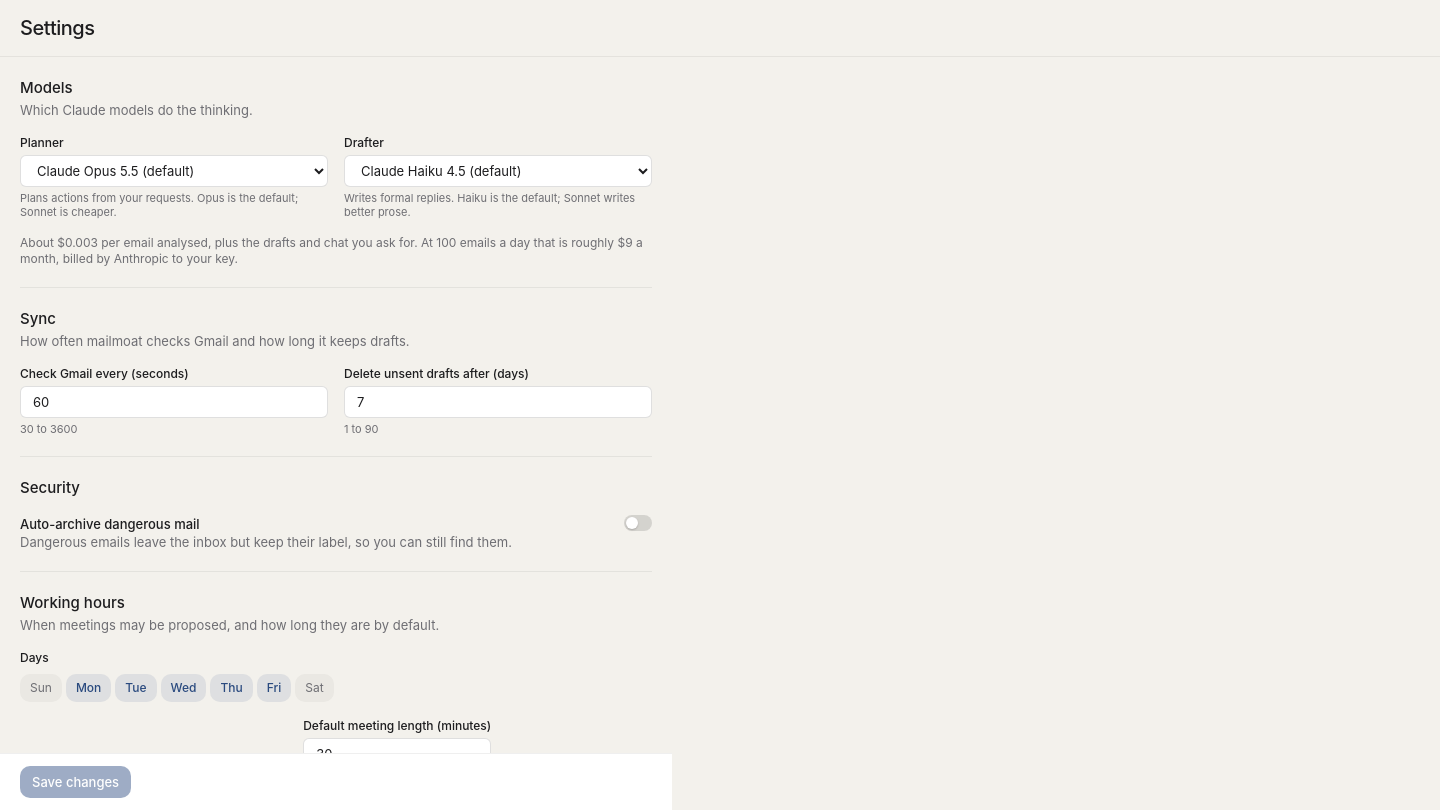
SettingsPage › sends only the changed fields on save
This screenshot has width=1440, height=810.
Expected: the button "Save changes" is disabled, [20,766,131,798]
Select "Claude Sonnet 5.5 (cheaper)" in the dropdown labelled "Planner": coordinates (174, 171) [20,155,328,187]
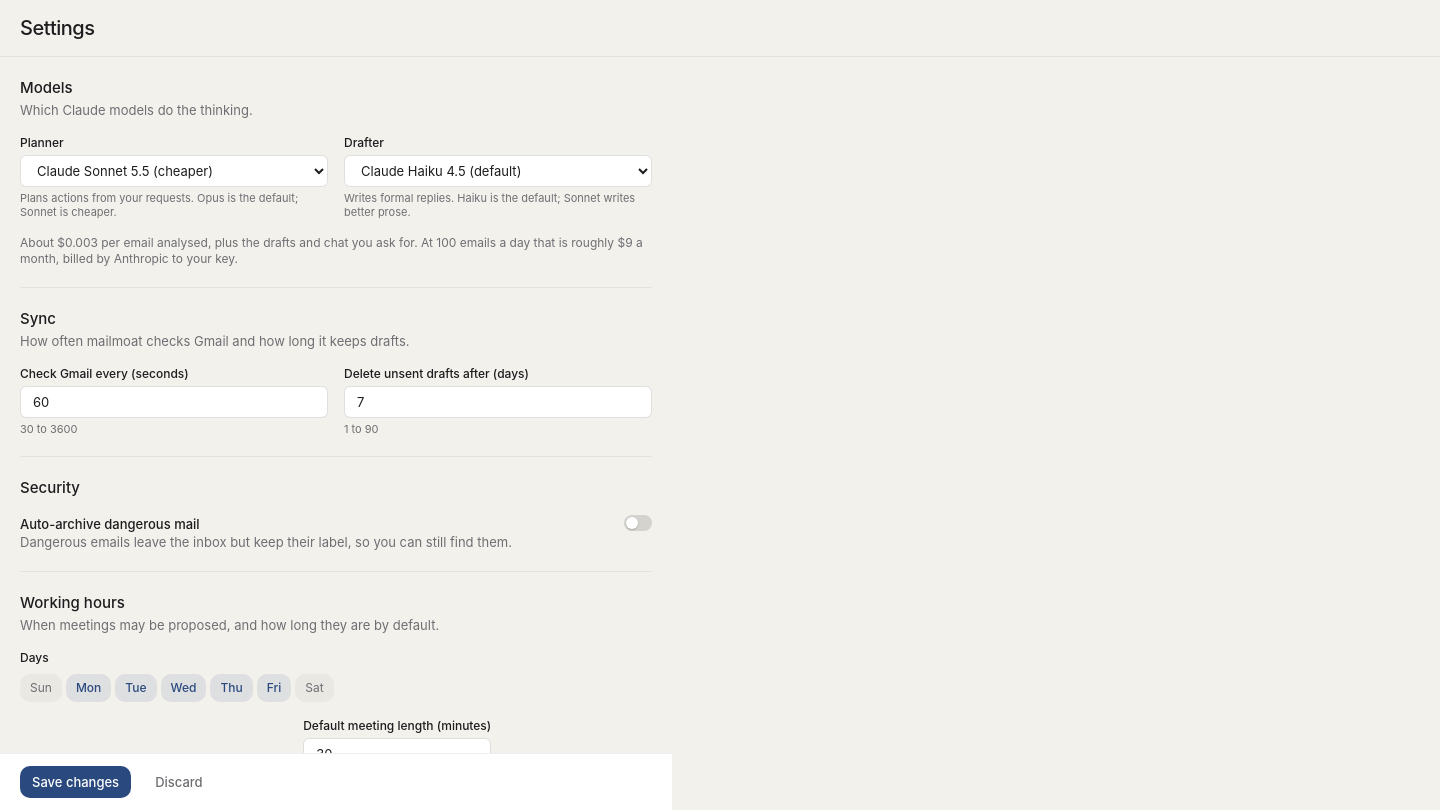
Click the switch named "Auto-archive dangerous mail": coordinates (638, 523) [624,515,652,531]
(page scrolled)
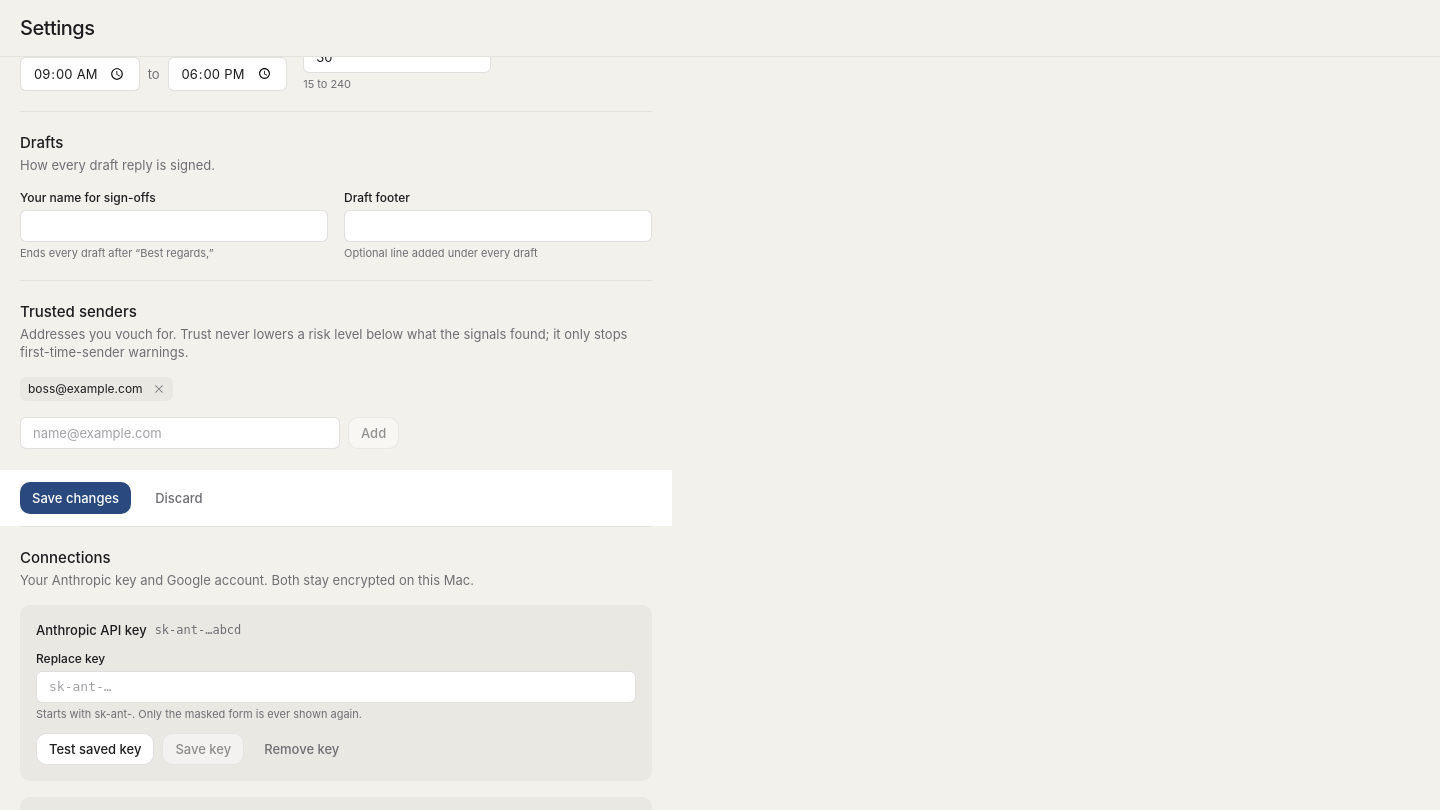
In the field named "Add trusted sender": coordinates (180, 433) [20,417,340,449], type "Ally@Example.com"
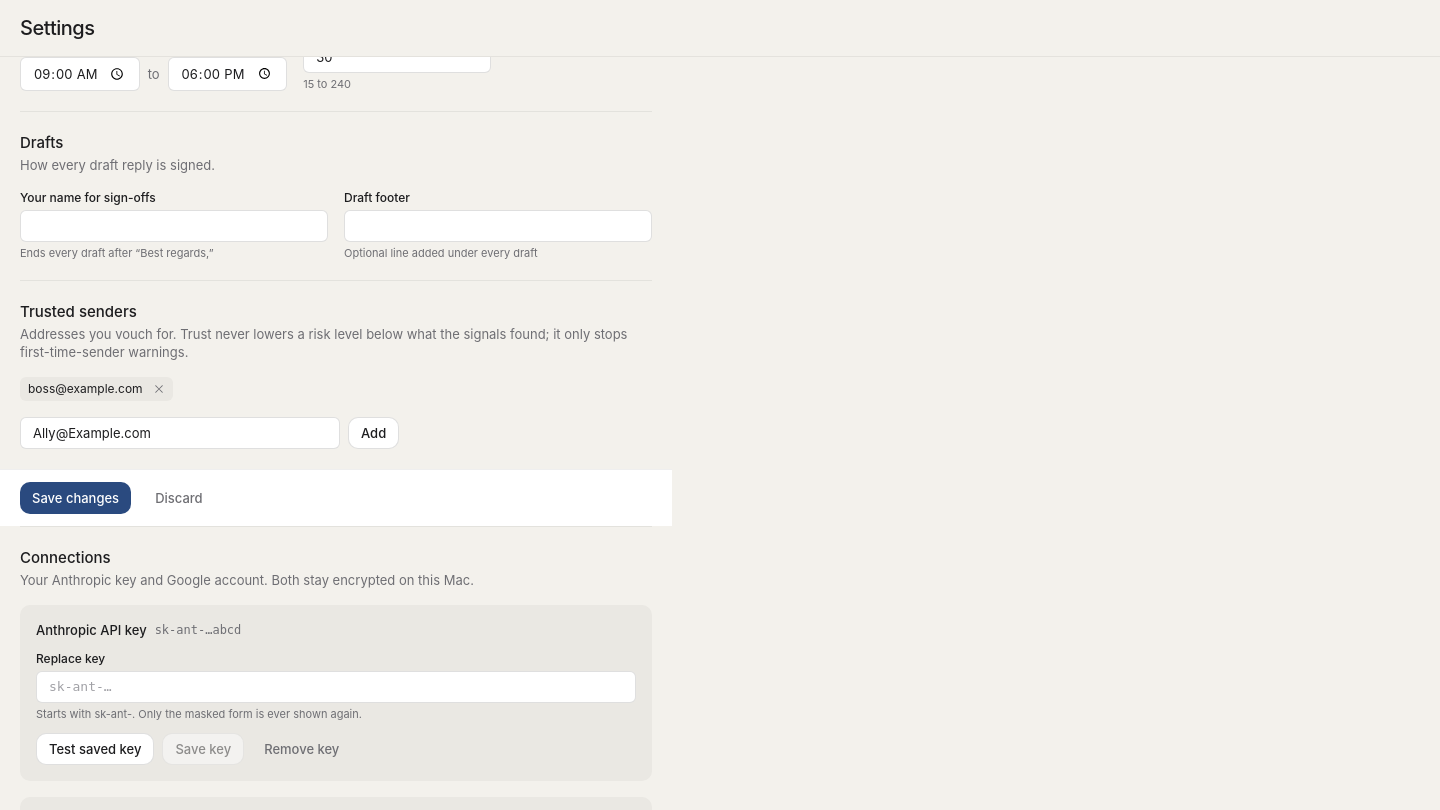
Click the button "Add": coordinates (374, 433) [348,417,399,449]
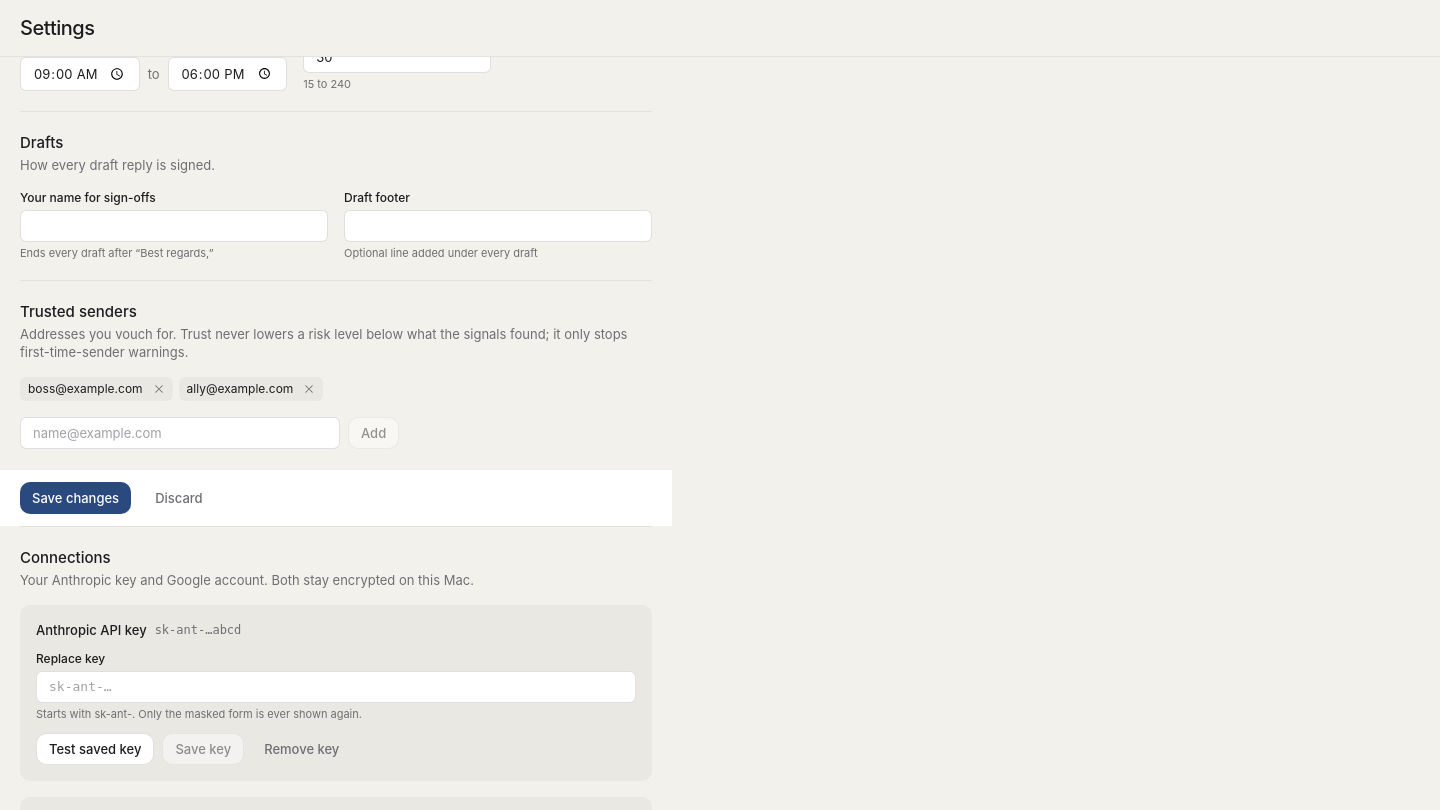
Click the button "Save changes": coordinates (76, 498) [20,482,131,514]
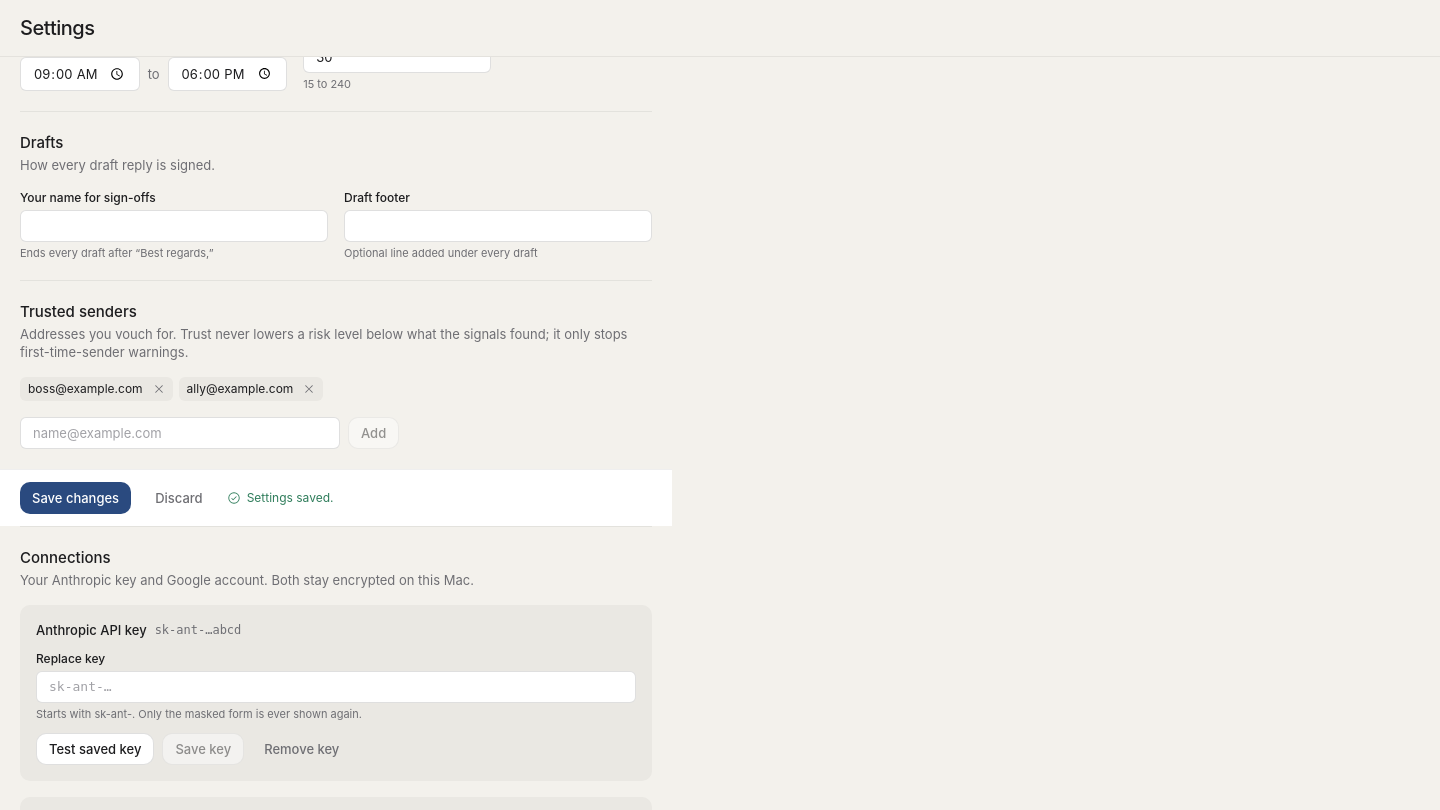
Result: the text "Settings saved." is shown at [227,490,333,506]
